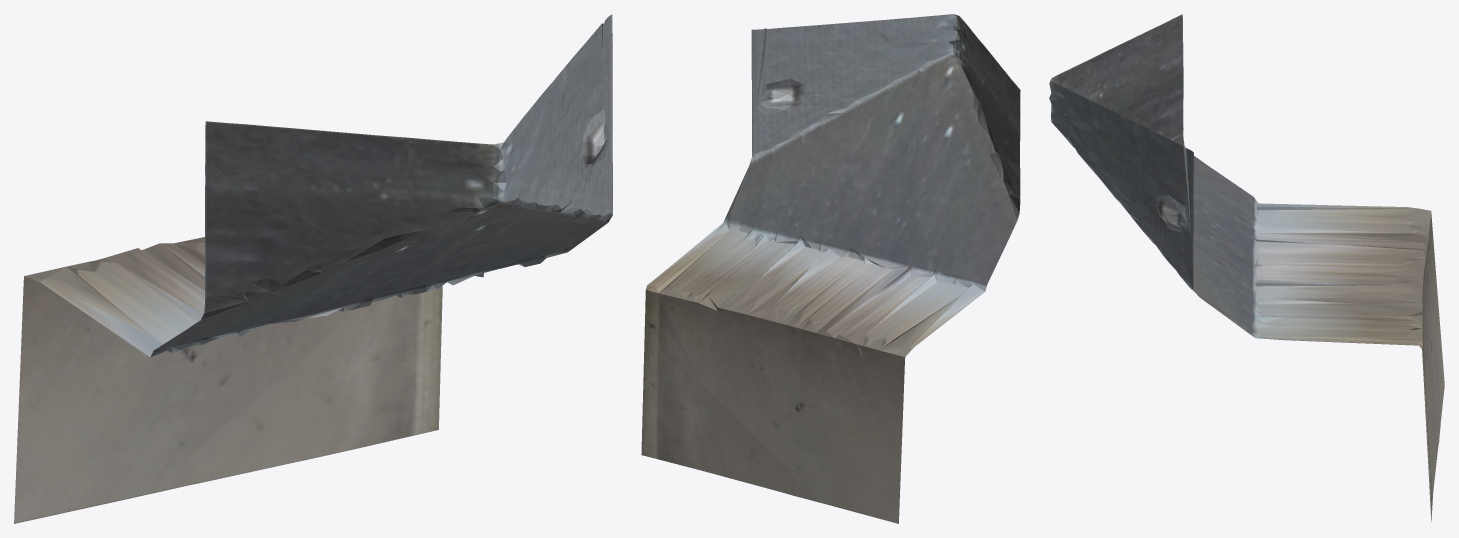
File: map_60_100.obj
3 views of the same model, side by side, from view 1: azimuth 30°, elevation 25°; view 2: azimuth 150°, elevation 25°; view 3: azimuth 270°, elevation 25° (orthographic). The views are drawn at different scales.
Visible parts, largest first — view 1: grp1; view 2: grp1; view 3: grp1.
Part boxes in pixels (x1=…): grp1: x1=14, y1=14, x2=612, y2=523; grp1: x1=641, y1=14, x2=1020, y2=523; grp1: x1=1049, y1=14, x2=1444, y2=521.
Size of the model in its own units: 8 by 10 by 9.65.
Materials: 1 (1 with a texture image).
